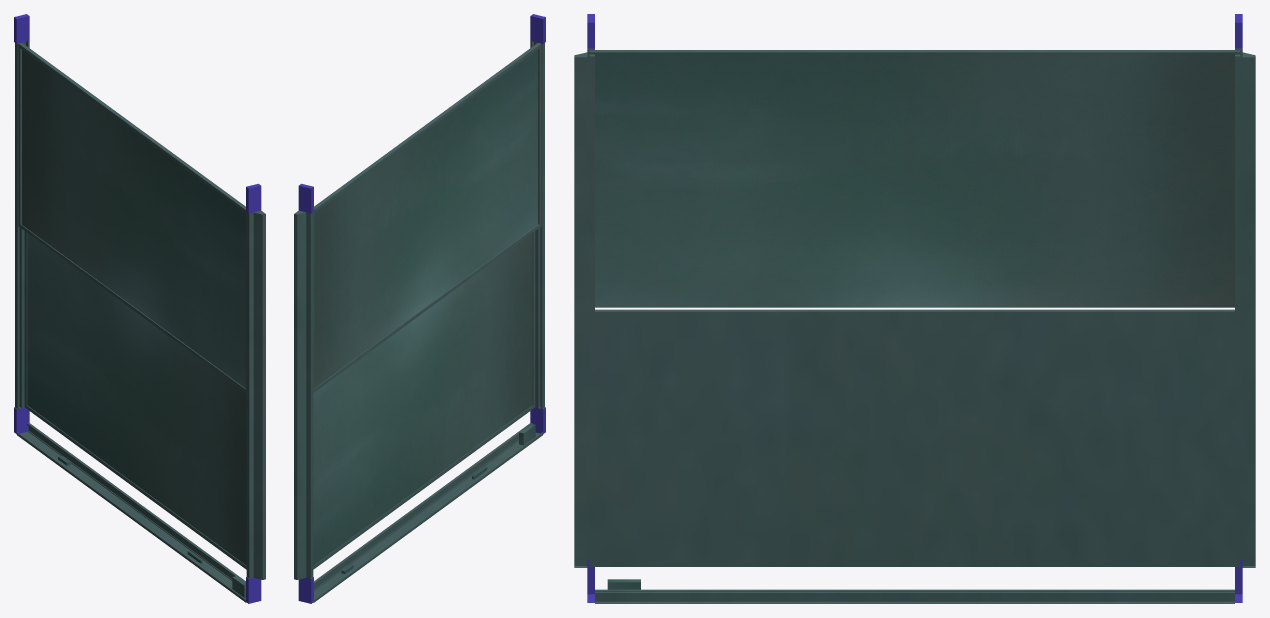
File: tablica.fbx
3 views of the same model, side by side, from view 1: azimuth 30°, elevation 25°; view 2: azimuth 150°, elevation 25°; view 3: azimuth 270°, elevation 25° (orthographic). The views are drawn at different scales.
Visible parts, largest first — view 1: tablica:tablica:Mesh1; view 2: tablica:tablica:Mesh1; view 3: tablica:tablica:Mesh1.
Part boxes in pixels (box(x1,y1,x2,y2)): tablica:tablica:Mesh1: box(14, 14, 265, 603); tablica:tablica:Mesh1: box(294, 14, 545, 603); tablica:tablica:Mesh1: box(574, 14, 1255, 603).
Size of the model in its own units: 8 by 250 by 266.
